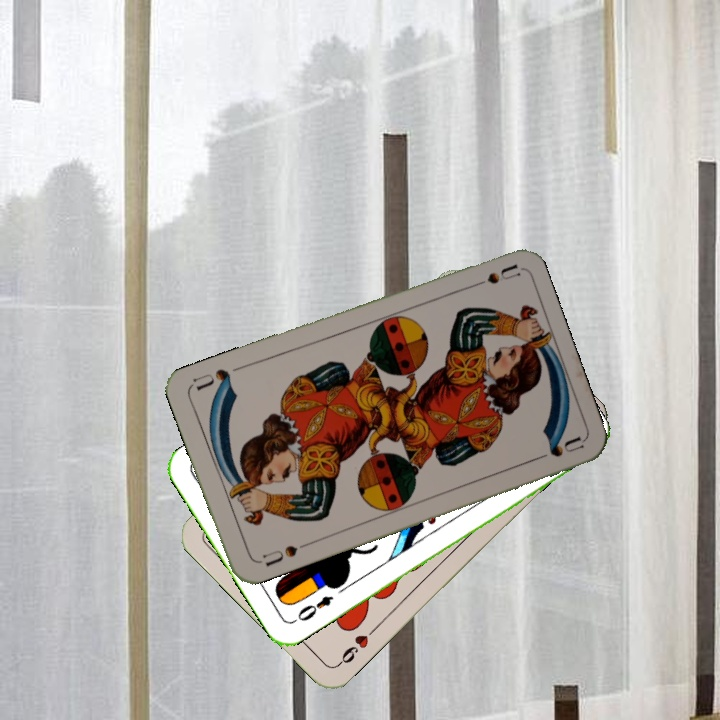EO: (289, 591, 336, 625)
H9: (333, 623, 380, 669)
SU: (462, 261, 521, 292), (258, 539, 311, 569)
